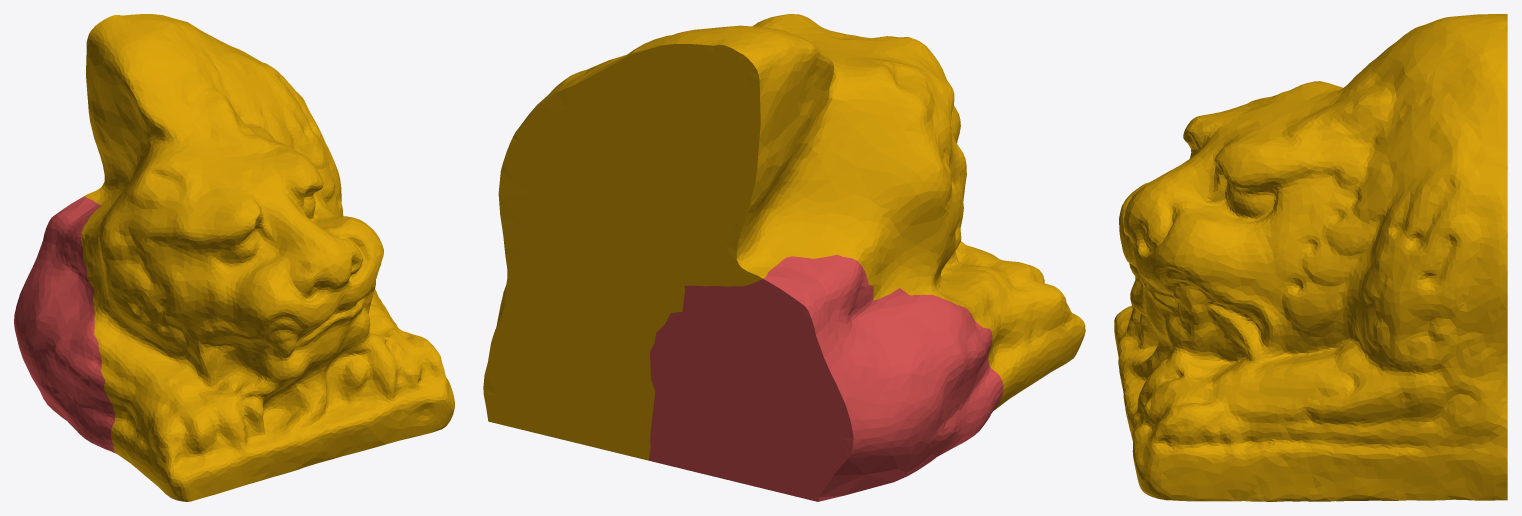
File: fractured_77_2pcs.glb
3 views of the same model, side by side, from view 1: azimuth 30°, elevation 25°; view 2: azimuth 150°, elevation 25°; view 3: azimuth 270°, elevation 25° (orthographic). The views are drawn at different scales.
Parts seen in each view (by area): view 1: piece_0.obj, piece_1.obj; view 2: piece_0.obj, piece_1.obj; view 3: piece_0.obj.
Part boxes in pixels (x1=…): piece_0.obj: x1=81, y1=14, x2=454, y2=501; piece_1.obj: x1=14, y1=196, x2=114, y2=452; piece_0.obj: x1=483, y1=14, x2=1085, y2=460; piece_1.obj: x1=648, y1=254, x2=1003, y2=501; piece_0.obj: x1=1114, y1=14, x2=1507, y2=501.
Size of the model in its own units: 0.966 by 1 by 0.9361.
